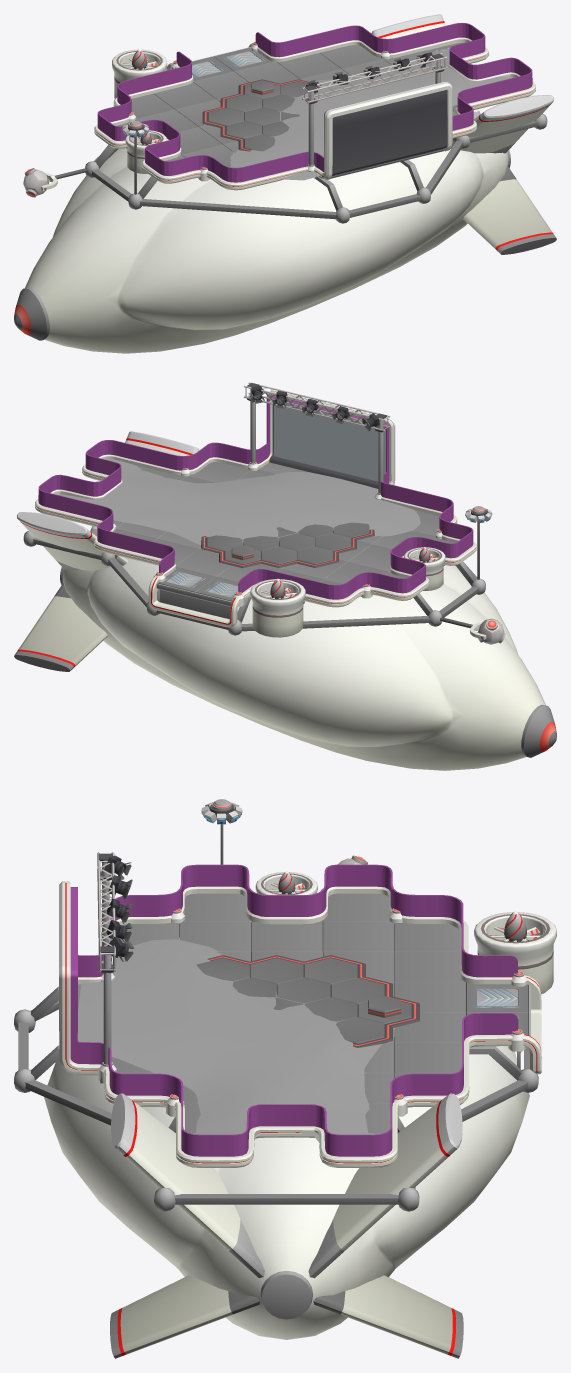
The model's file is MainMenuDeck.fbx.
3 renders of one model, top to bottom at view 1: azimuth 30°, elevation 25°; view 2: azimuth 150°, elevation 25°; view 3: azimuth 270°, elevation 25°, orthographic. The views are drawn at different scales.
Visible parts, largest first — view 1: BlimpSkin, DeckFrame, ForceBarrier, Deck, SandDrif, SubFrame, Stage, HWay_overheadFull2, CaseLarge, CaseSmall, LightingRig01_StageSpotLight04, Eye (+1 smaller); view 2: BlimpSkin, SandDrif, ForceBarrier, DeckFrame, Deck, Screen, Stage, SubFrame, CaseLarge, HWay_overheadFull2, LightingRig01_StageSpotLight04, CaseSmall (+2 smaller); view 3: BlimpSkin, SandDrif, Deck, ForceBarrier, DeckFrame, Stage, SubFrame, CaseLarge, HWay_overheadFull2, LightingRig01_StageSpotLight04, Stem, CaseSmall (+1 smaller).
Boxes of the visible parts, x1=… form: BlimpSkin: x1=14, y1=14, x2=556, y2=353; DeckFrame: x1=94, y1=37, x2=535, y2=190; ForceBarrier: x1=97, y1=23, x2=532, y2=182; Deck: x1=116, y1=42, x2=462, y2=176; SandDrif: x1=229, y1=49, x2=512, y2=180; SubFrame: x1=85, y1=113, x2=547, y2=223; Stage: x1=202, y1=79, x2=321, y2=151; HWay_overheadFull2: x1=302, y1=53, x2=447, y2=171; CaseLarge: x1=112, y1=49, x2=167, y2=98; CaseSmall: x1=125, y1=130, x2=166, y2=173; LightingRig01_StageSpotLight04: x1=306, y1=52, x2=433, y2=93; Eye: x1=23, y1=168, x2=49, y2=197; BlimpSkin: x1=14, y1=431, x2=556, y2=770; SandDrif: x1=57, y1=458, x2=420, y2=553; ForceBarrier: x1=38, y1=395, x2=473, y2=599; DeckFrame: x1=35, y1=390, x2=476, y2=627; Deck: x1=113, y1=462, x2=454, y2=601; Screen: x1=273, y1=403, x2=385, y2=481; Stage: x1=201, y1=522, x2=374, y2=568; SubFrame: x1=23, y1=531, x2=485, y2=635; CaseLarge: x1=250, y1=579, x2=305, y2=637; HWay_overheadFull2: x1=243, y1=382, x2=390, y2=493; LightingRig01_StageSpotLight04: x1=250, y1=386, x2=379, y2=431; CaseSmall: x1=404, y1=547, x2=445, y2=590; BlimpSkin: x1=44, y1=1046, x2=529, y2=1358; SandDrif: x1=77, y1=937, x2=394, y2=1165; Deck: x1=72, y1=893, x2=528, y2=1134; ForceBarrier: x1=70, y1=864, x2=517, y2=1156; DeckFrame: x1=59, y1=881, x2=541, y2=1167; Stage: x1=196, y1=955, x2=419, y2=1047; SubFrame: x1=14, y1=986, x2=538, y2=1211; CaseLarge: x1=474, y1=912, x2=556, y2=994; HWay_overheadFull2: x1=97, y1=852, x2=115, y2=1083; LightingRig01_StageSpotLight04: x1=104, y1=855, x2=134, y2=961; Stem: x1=201, y1=799, x2=242, y2=864; CaseSmall: x1=255, y1=872, x2=317, y2=894.
Size of the model in its own units: 2360 by 1292 by 1516.
5 materials, 2 textured.
